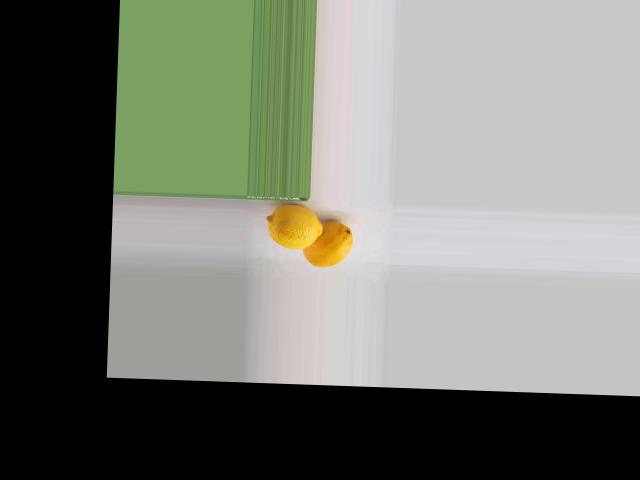lemon: (305, 224, 355, 269)
